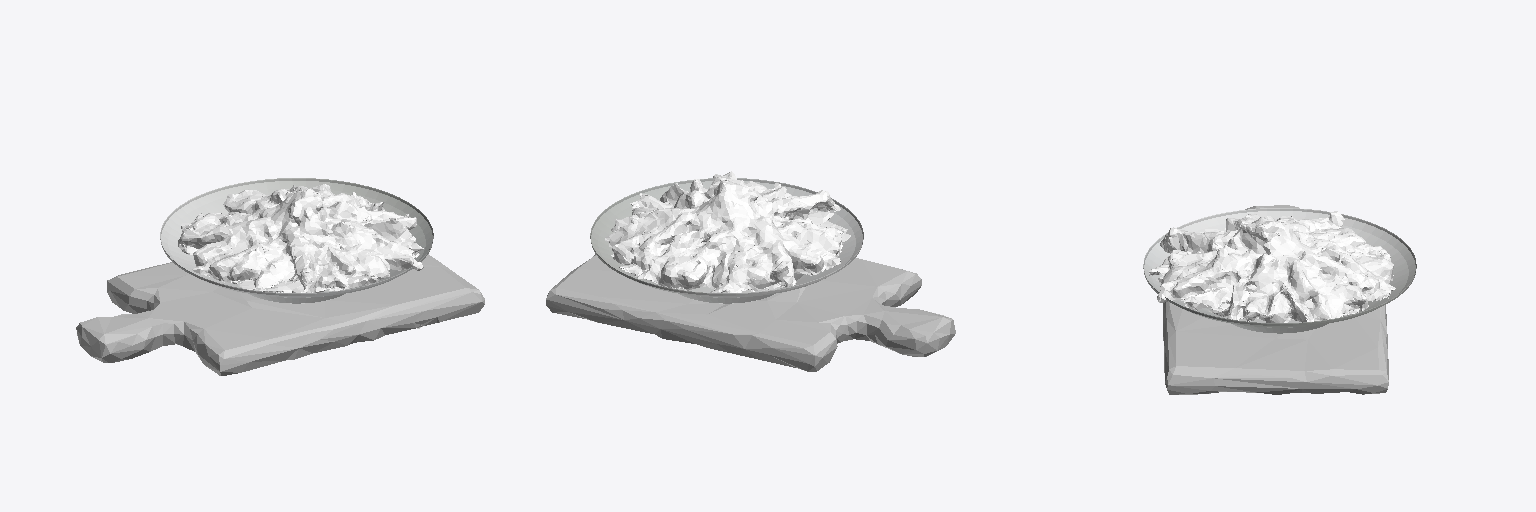
The picture shows the model from 3 angles: view 1: azimuth 30°, elevation 25°; view 2: azimuth 150°, elevation 25°; view 3: azimuth 270°, elevation 25°; orthographic projection.
Visible parts, largest first — view 1: Group_Global.001, Group_Global, Circle; view 2: Group_Global.001, Group_Global, Circle; view 3: Group_Global, Group_Global.001, Circle.
Part boxes in pixels (x1,y1,x2,y2): Group_Global.001: (76, 254, 484, 375); Group_Global: (178, 184, 423, 292); Circle: (160, 178, 433, 303); Group_Global.001: (546, 254, 955, 371); Group_Global: (605, 171, 850, 292); Circle: (590, 178, 863, 303); Group_Global: (1149, 211, 1395, 322); Group_Global.001: (1163, 205, 1388, 394); Circle: (1143, 208, 1416, 333).
Size of the model in its own units: 0.5715 by 0.1835 by 0.39.
3 materials, 1 textured.